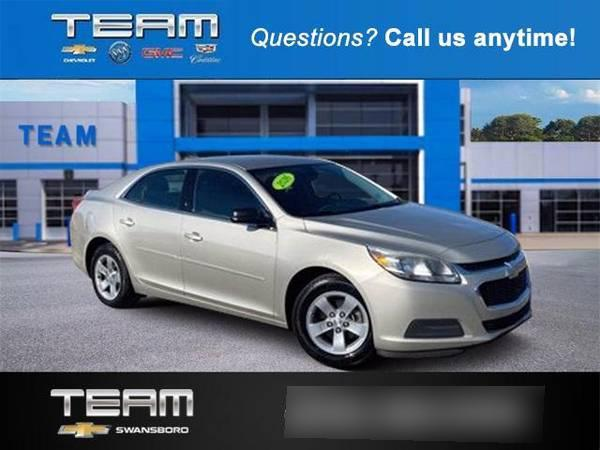Front_Fender: (274, 216, 388, 328)
Front_Right_Door: (182, 213, 278, 323)
Front_Right_Window: (184, 166, 279, 230)
Front_Windshield: (255, 167, 411, 220)
Grille: (455, 241, 535, 338)
Hood: (303, 201, 519, 260)
Rear_Fender: (70, 193, 118, 273)
Rear_Right_Door: (114, 198, 184, 301)
Rear_Right_Window: (119, 167, 195, 210)
Right_Headlight: (369, 243, 460, 285)
Roof: (87, 155, 333, 226)
Wheel: (358, 275, 491, 358), (293, 274, 373, 366), (92, 248, 131, 308)
